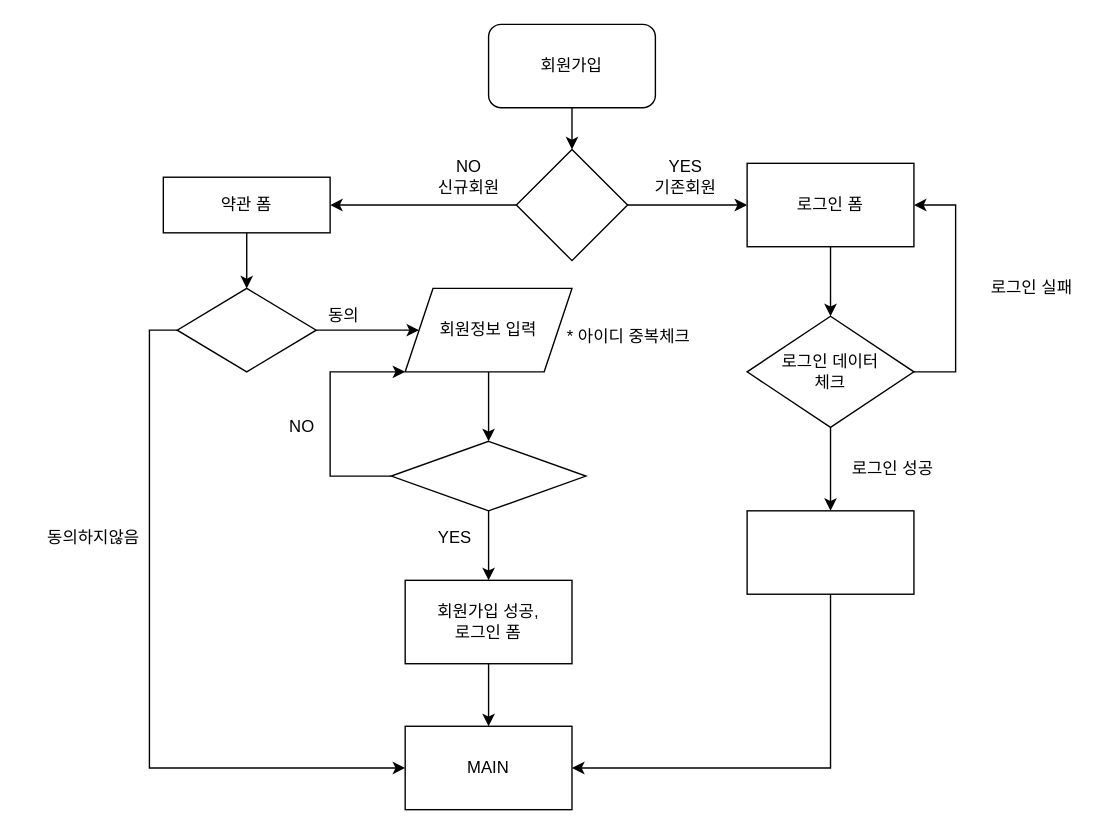
Some shapes in this 1118 by 834 pixel diagram are drawn without their labels. Each missing label, with the centre of its shape:
"데이터 유효체크" goes at (x=488, y=475).
"로그인 성공 폼" goes at (x=830, y=551).
"약관동의" goes at (x=246, y=329).
"회원유무" goes at (x=571, y=204).
